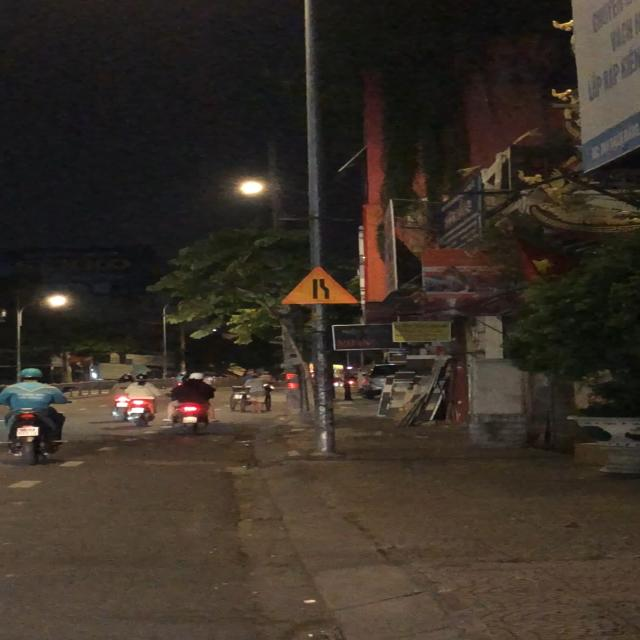Bien bao duong bi thu hep: (280, 266, 361, 304)
